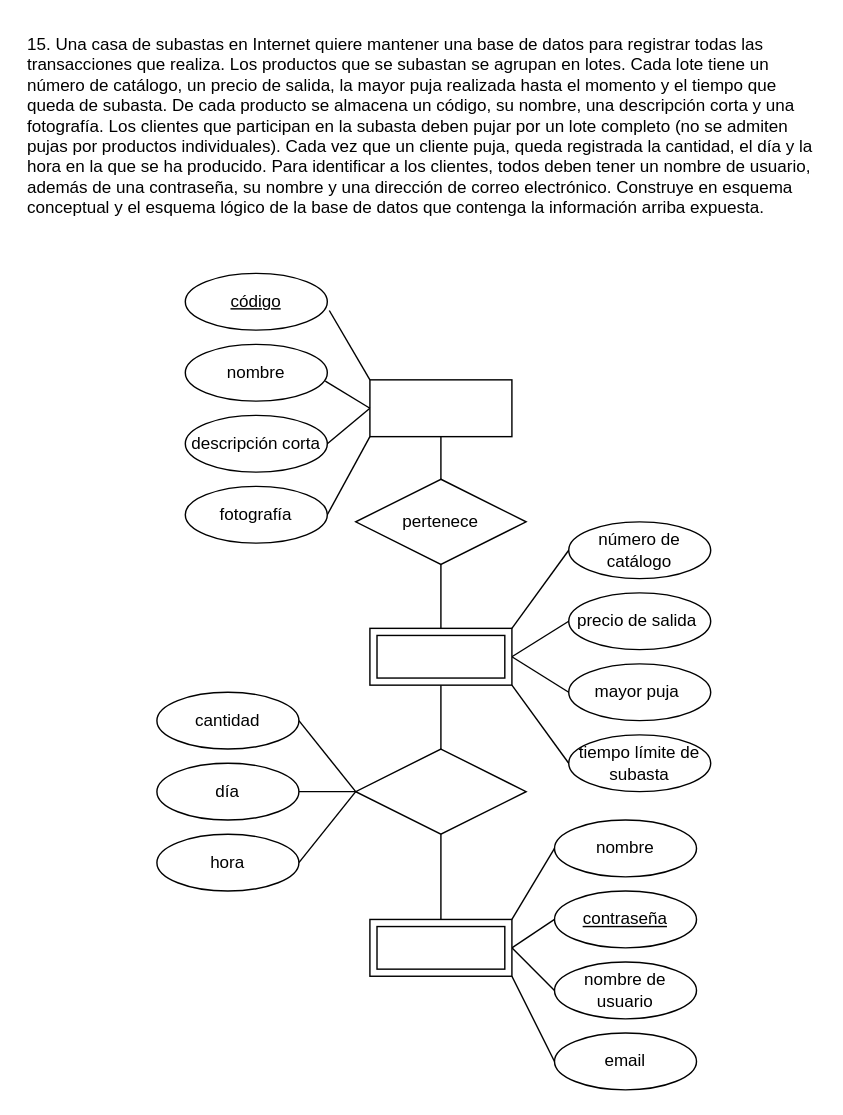
Some shapes in this 843 by 1115 pixel diagram are drawn without their labels. Each missing label, with the box of its shape:
CLIENTE: (368, 918, 512, 976)
LOTE: (368, 627, 512, 685)
PRODUCTO: (368, 378, 512, 437)
puja: (354, 748, 526, 834)
